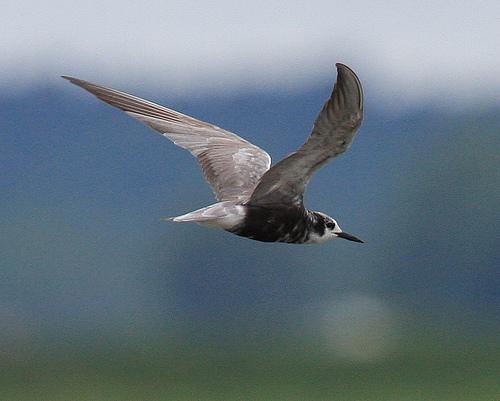bird: (51, 62, 372, 245)
